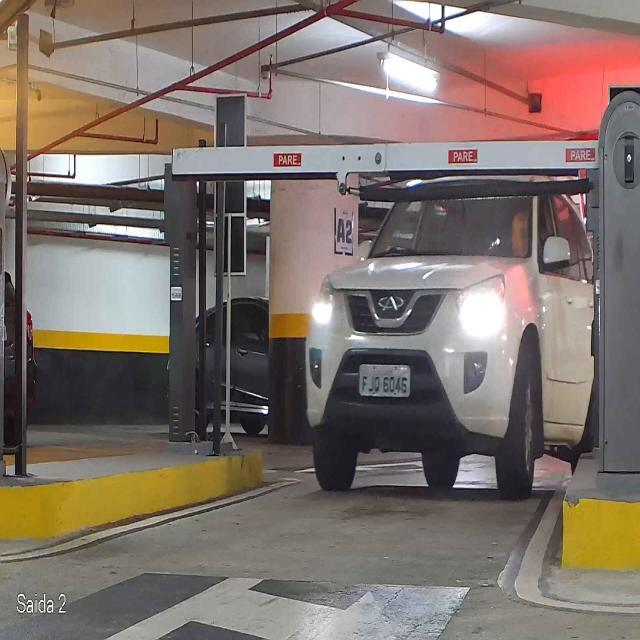old_plate: (357, 363, 412, 399)
